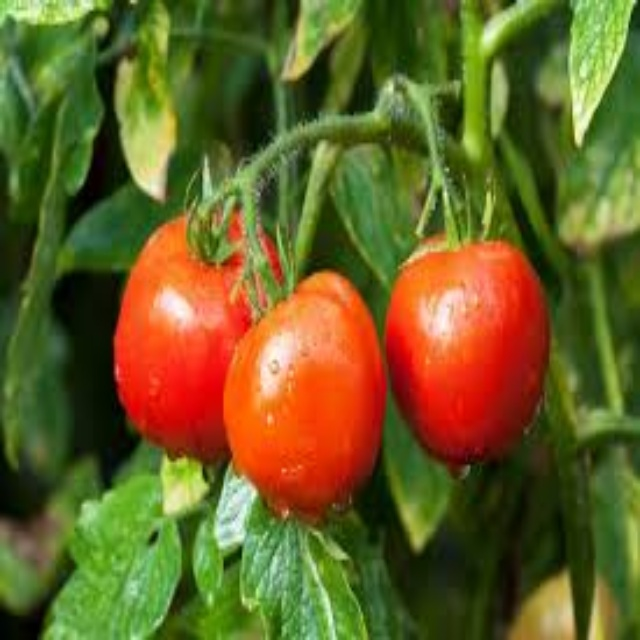tomato: (116, 206, 296, 462), (390, 243, 554, 466), (235, 286, 383, 508)
